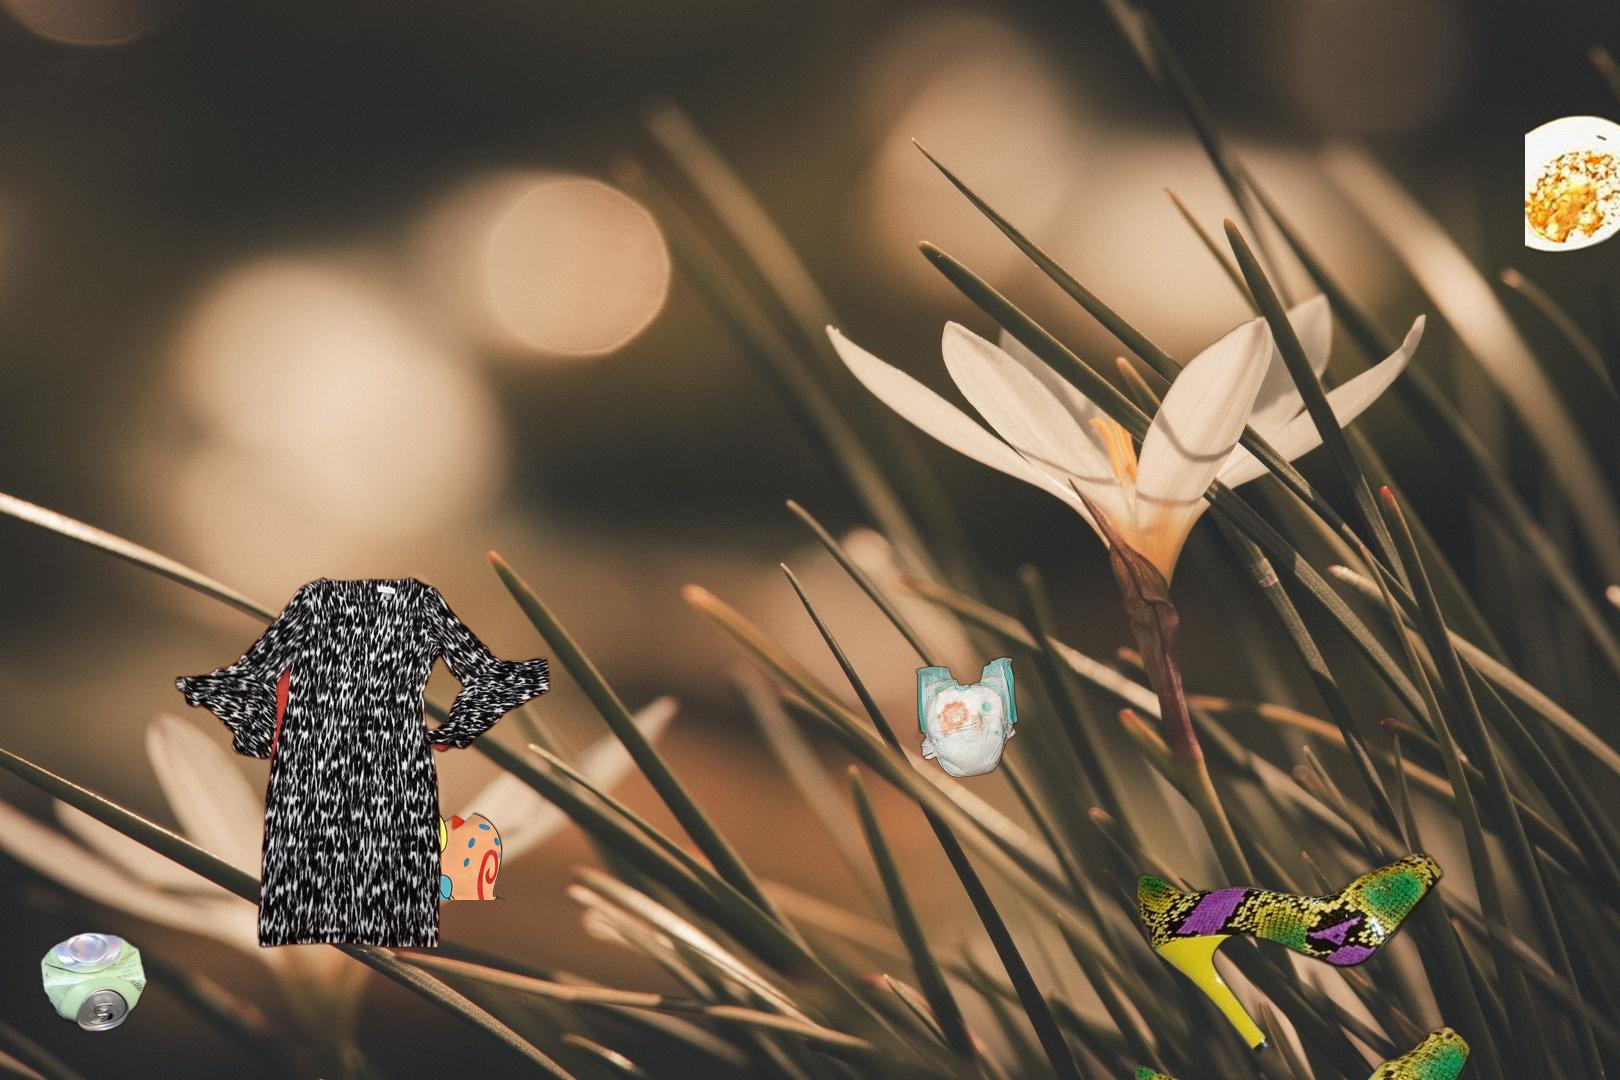biological: (1525, 23, 1620, 362)
clothes: (171, 573, 554, 952)
metal-cans: (35, 926, 325, 1080)
penholder: (297, 796, 507, 900)
shoes: (1129, 846, 1475, 1080)
trash: (912, 633, 1020, 780)
